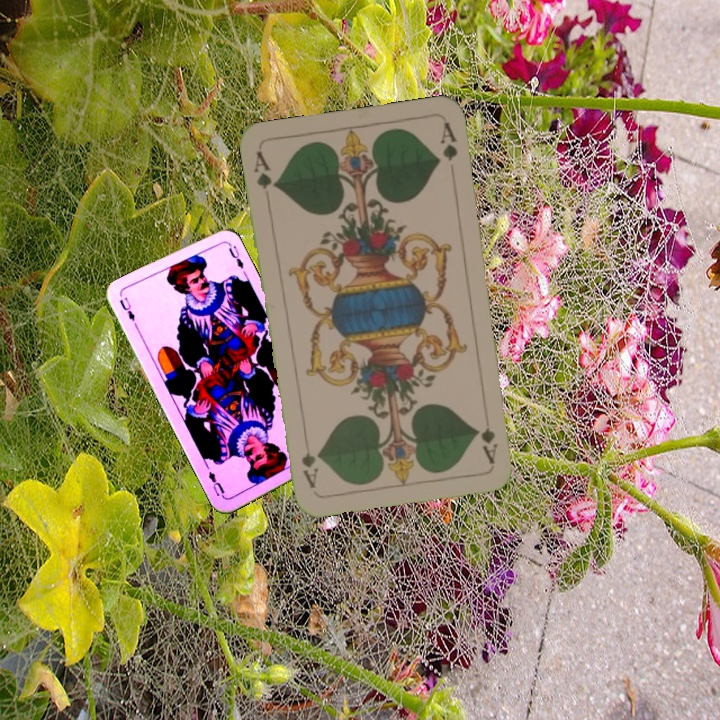EU: (115, 293, 138, 324)
GA: (249, 147, 279, 192), (477, 424, 500, 466)
